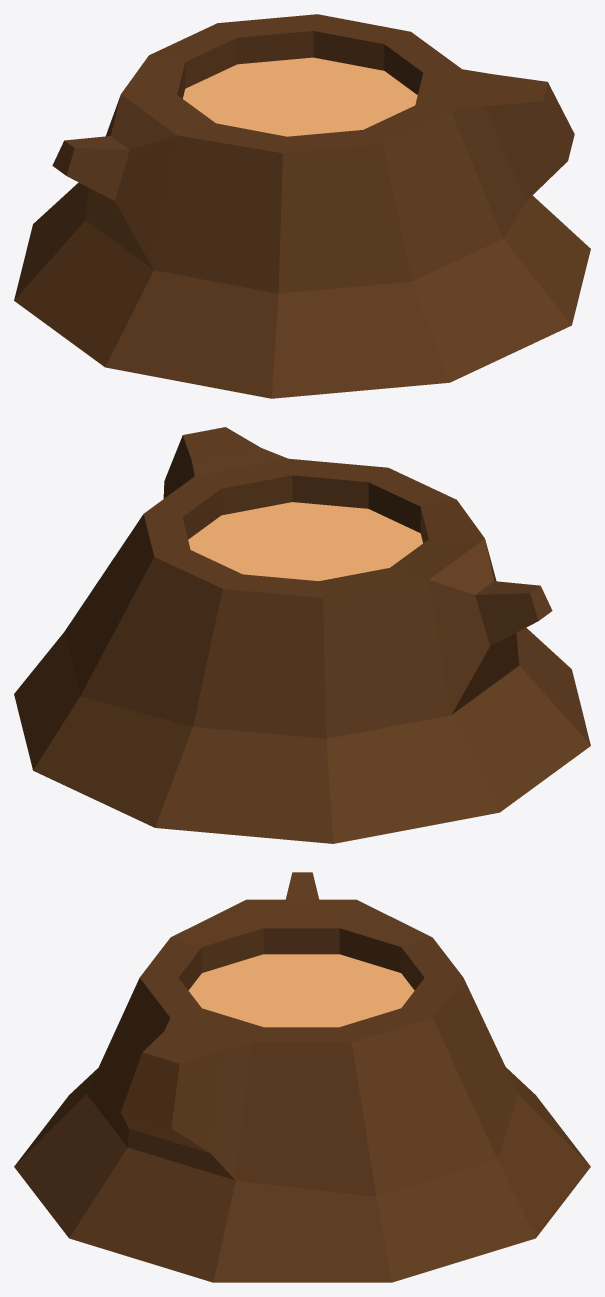
The model's file is Trunk 2.fbx.
3 views of the same model, one above another, from view 1: azimuth 30°, elevation 25°; view 2: azimuth 150°, elevation 25°; view 3: azimuth 270°, elevation 25° (orthographic). The views are drawn at different scales.
Visible parts, largest first — view 1: Trunk 2; view 2: Trunk 2; view 3: Trunk 2.
Boxes of the visible parts, x1,y1,x2,y2 form: Trunk 2: (14,14,590,398); Trunk 2: (14,427,590,843); Trunk 2: (14,872,590,1282).
Size of the model in its own units: 1.63 by 0.6356 by 1.72.
